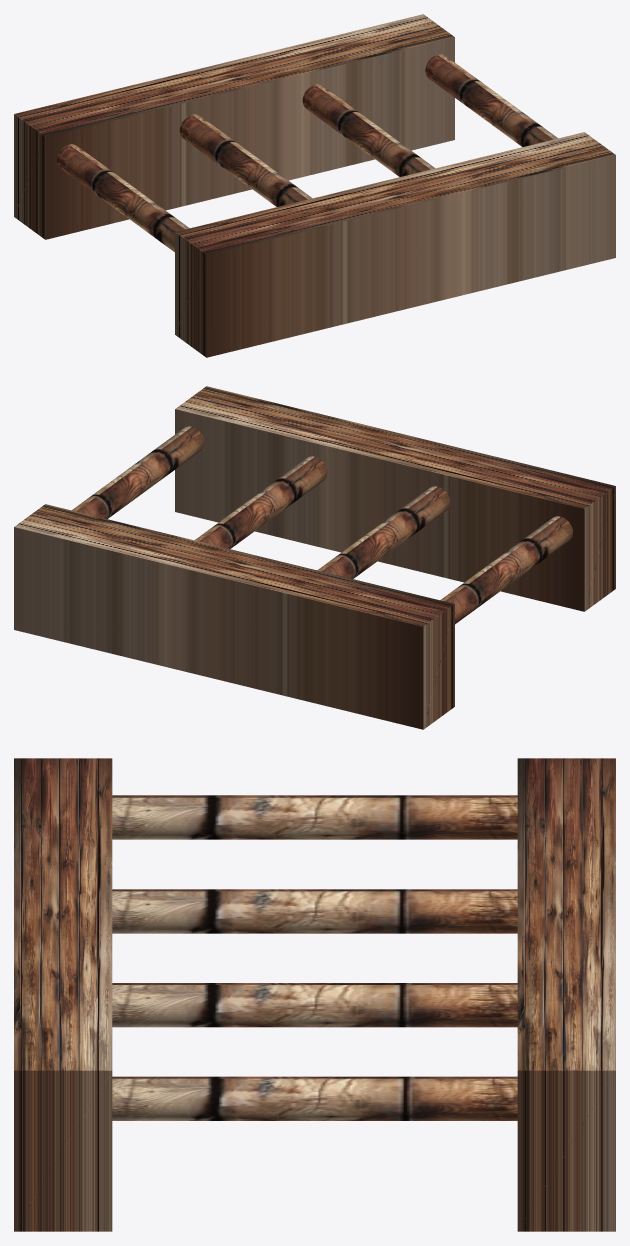
File: Tikaseste3D.glb
3 views of the same model, one above another, from view 1: azimuth 30°, elevation 25°; view 2: azimuth 150°, elevation 25°; view 3: azimuth 270°, elevation 25° (orthographic). The views are drawn at different scales.
Visible parts, largest first — view 1: Plane.006; view 2: Plane.006; view 3: Plane.006.
Part boxes in pixels (box(x1,y1,x2,y2)): Plane.006: box(14, 14, 615, 357); Plane.006: box(14, 386, 615, 729); Plane.006: box(14, 758, 615, 1231).
Size of the model in its own units: 0.5034 by 0.1208 by 0.41.
1 material, 1 textured.
